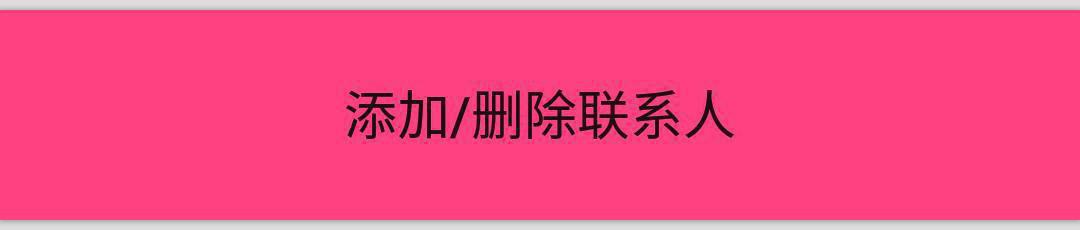Button: (1, 1, 1079, 229)
